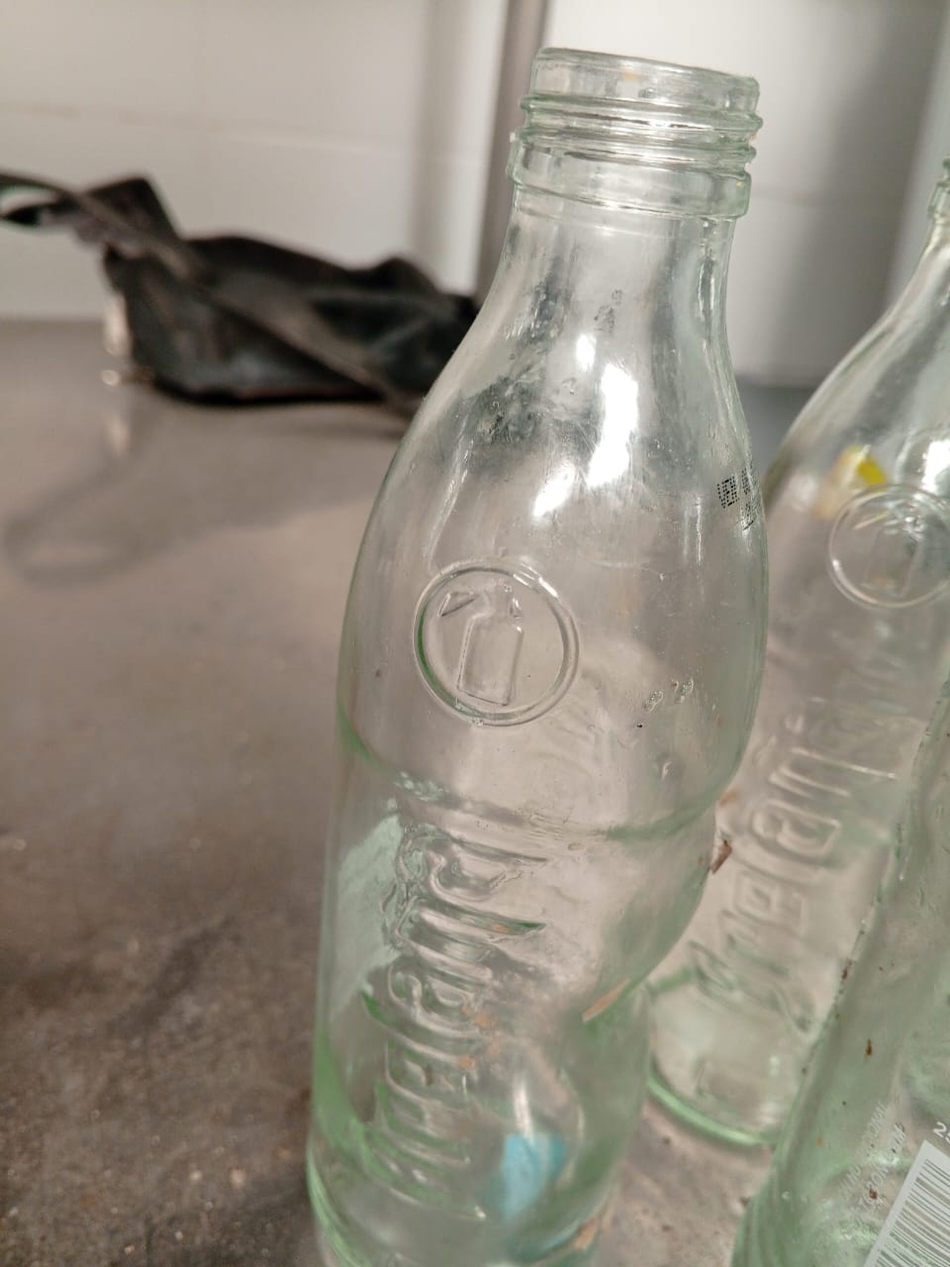Vidrio: (304, 48, 768, 1267), (765, 133, 950, 1267)
